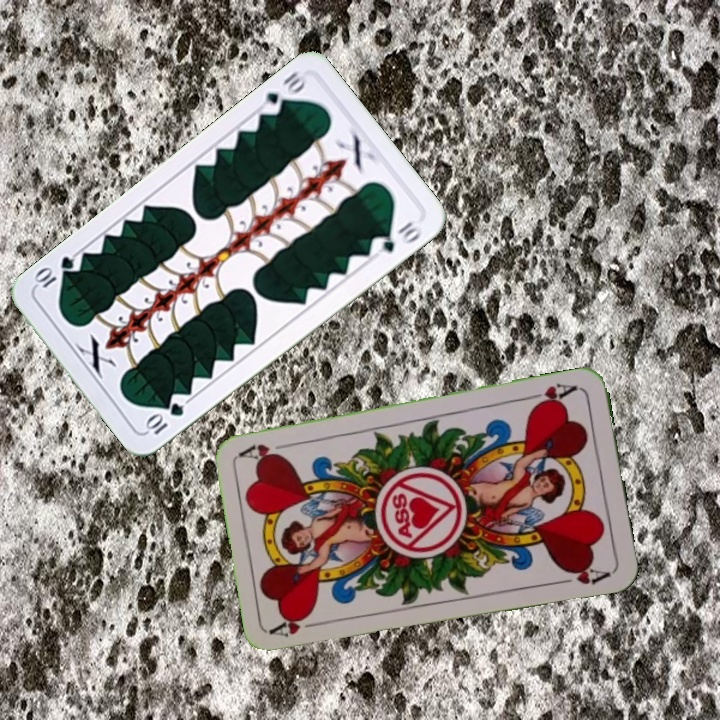G10: (256, 66, 309, 119), (141, 398, 187, 438)
HA: (523, 378, 582, 410), (268, 609, 327, 640)
